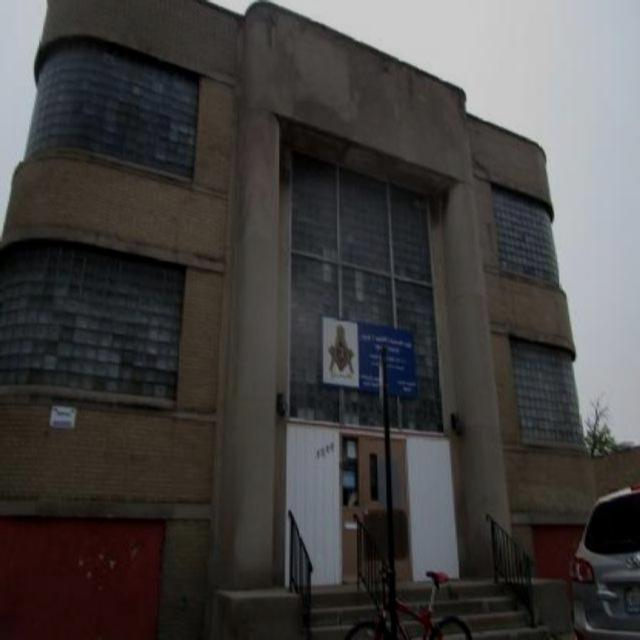stair: (296, 580, 550, 640)
